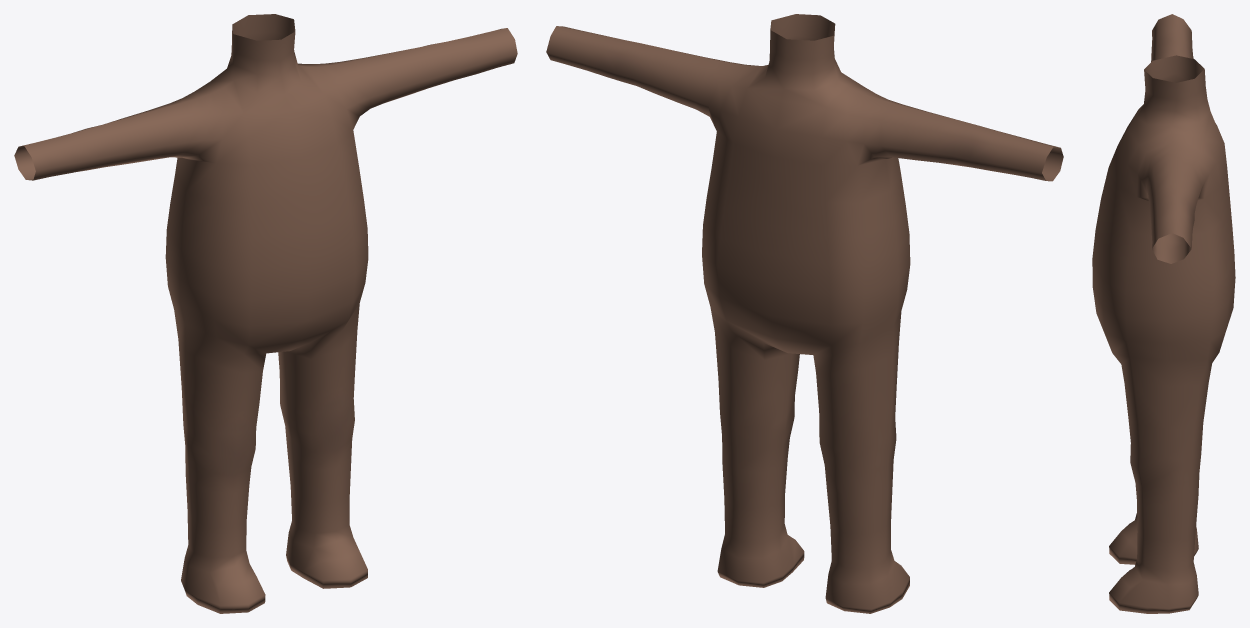
Rendered from Body_Black_2.fbx.
3 renders of one model, left to right at view 1: azimuth 30°, elevation 25°; view 2: azimuth 150°, elevation 25°; view 3: azimuth 270°, elevation 25°, orthographic. The views are drawn at different scales.
Visible parts, largest first — view 1: Body_Black_2; view 2: Body_Black_2; view 3: Body_Black_2.
Part boxes in pixels (x1,y1,x2,y2): Body_Black_2: [14, 14, 517, 613]; Body_Black_2: [546, 14, 1063, 613]; Body_Black_2: [1092, 14, 1235, 613].
Size of the model in its own units: 95.86 by 104 by 26.46.
